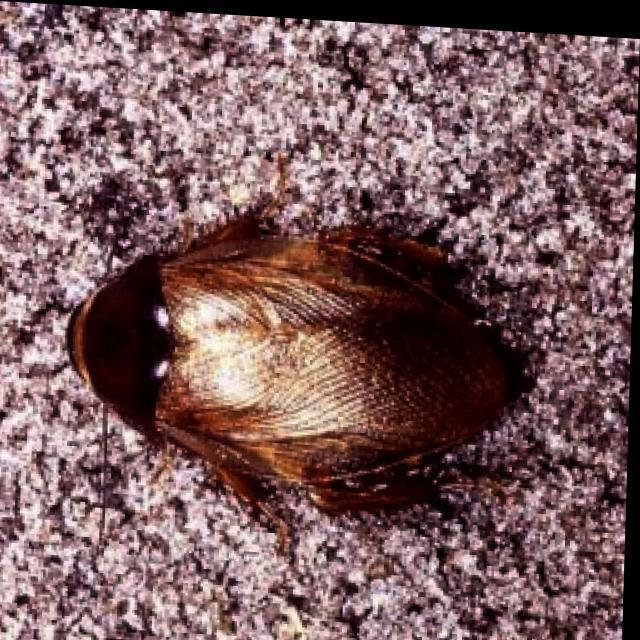cockroach: (62, 150, 537, 555)
